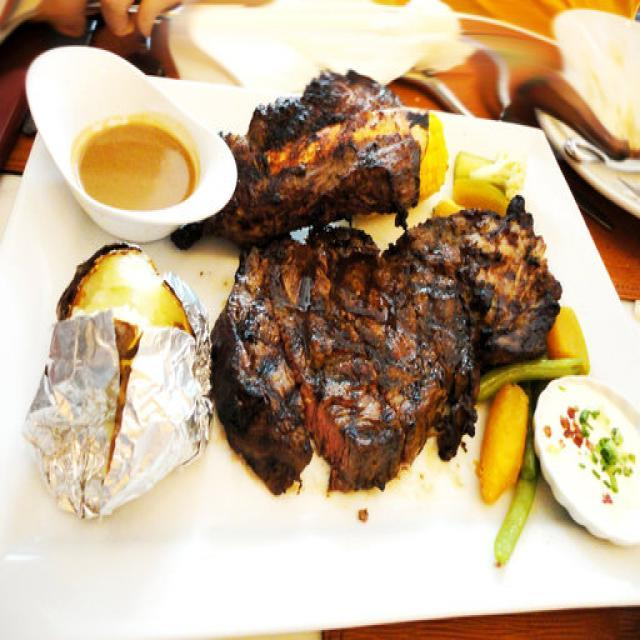Steak: (230, 92, 545, 484)
